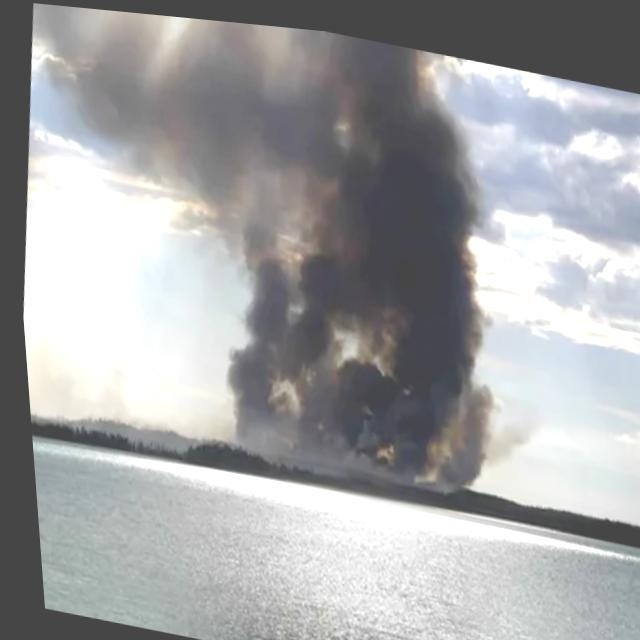Smoke: (182, 14, 528, 489)
